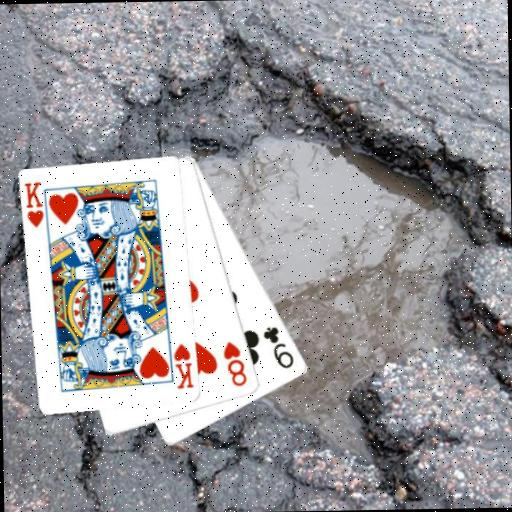8H: (220, 338, 249, 388)
9C: (260, 323, 296, 371)
KH: (22, 179, 46, 230), (171, 341, 195, 391)
